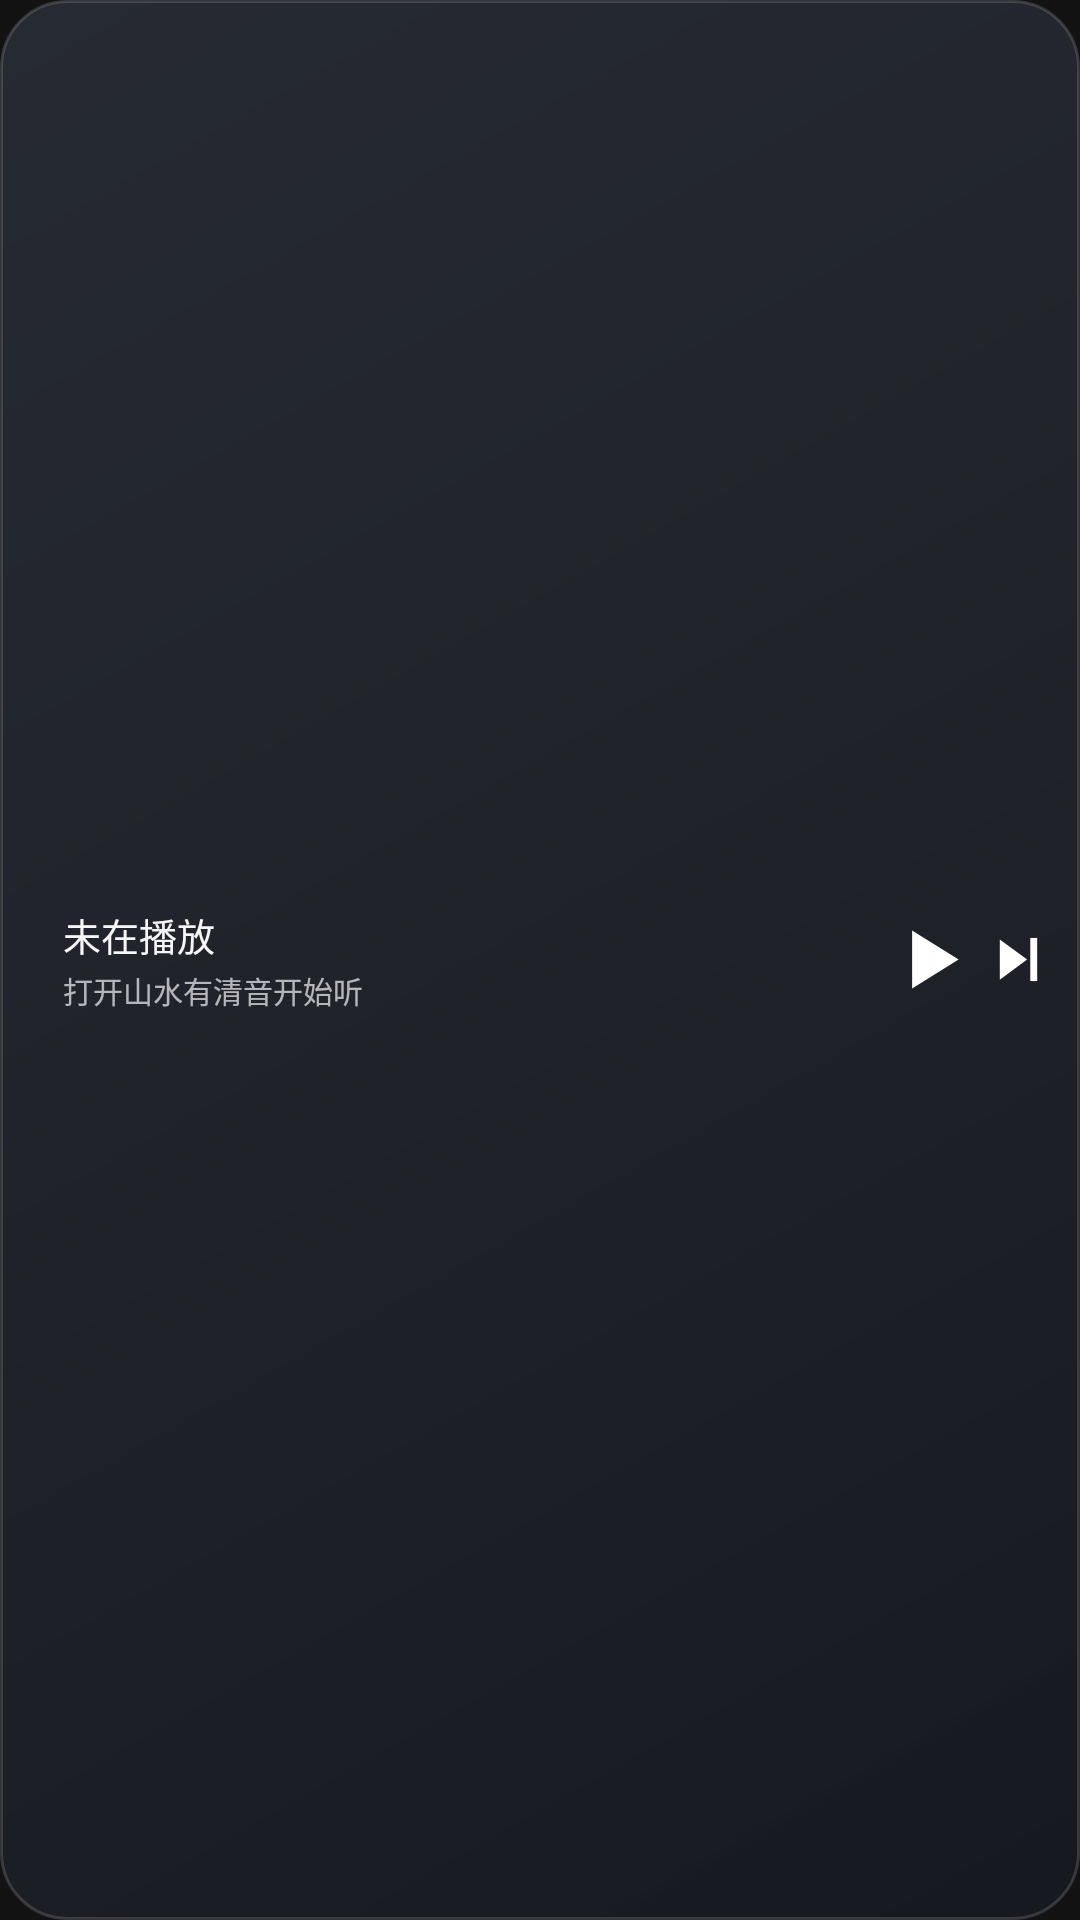

Point at icon controls on the screen. Image size 1080*1920, points as (x=x, y=y).
下一首: (x=1018, y=959)
播放或暂停: (x=935, y=959)
